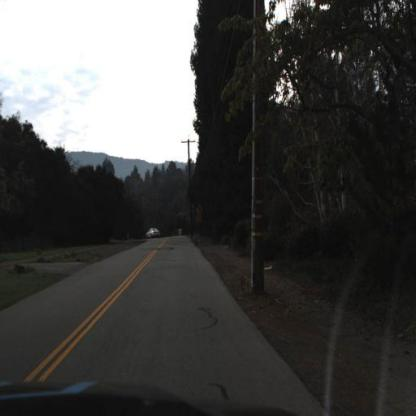car: (147, 225, 161, 243), (148, 228, 160, 240)
